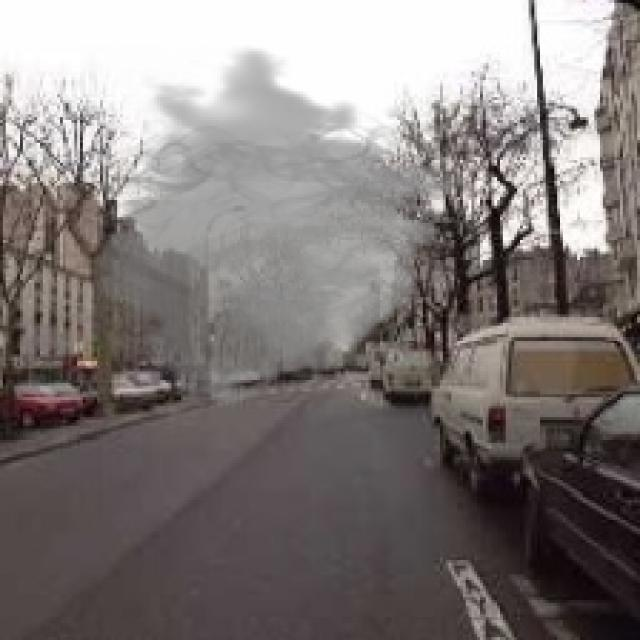smoke: (54, 46, 477, 408)
